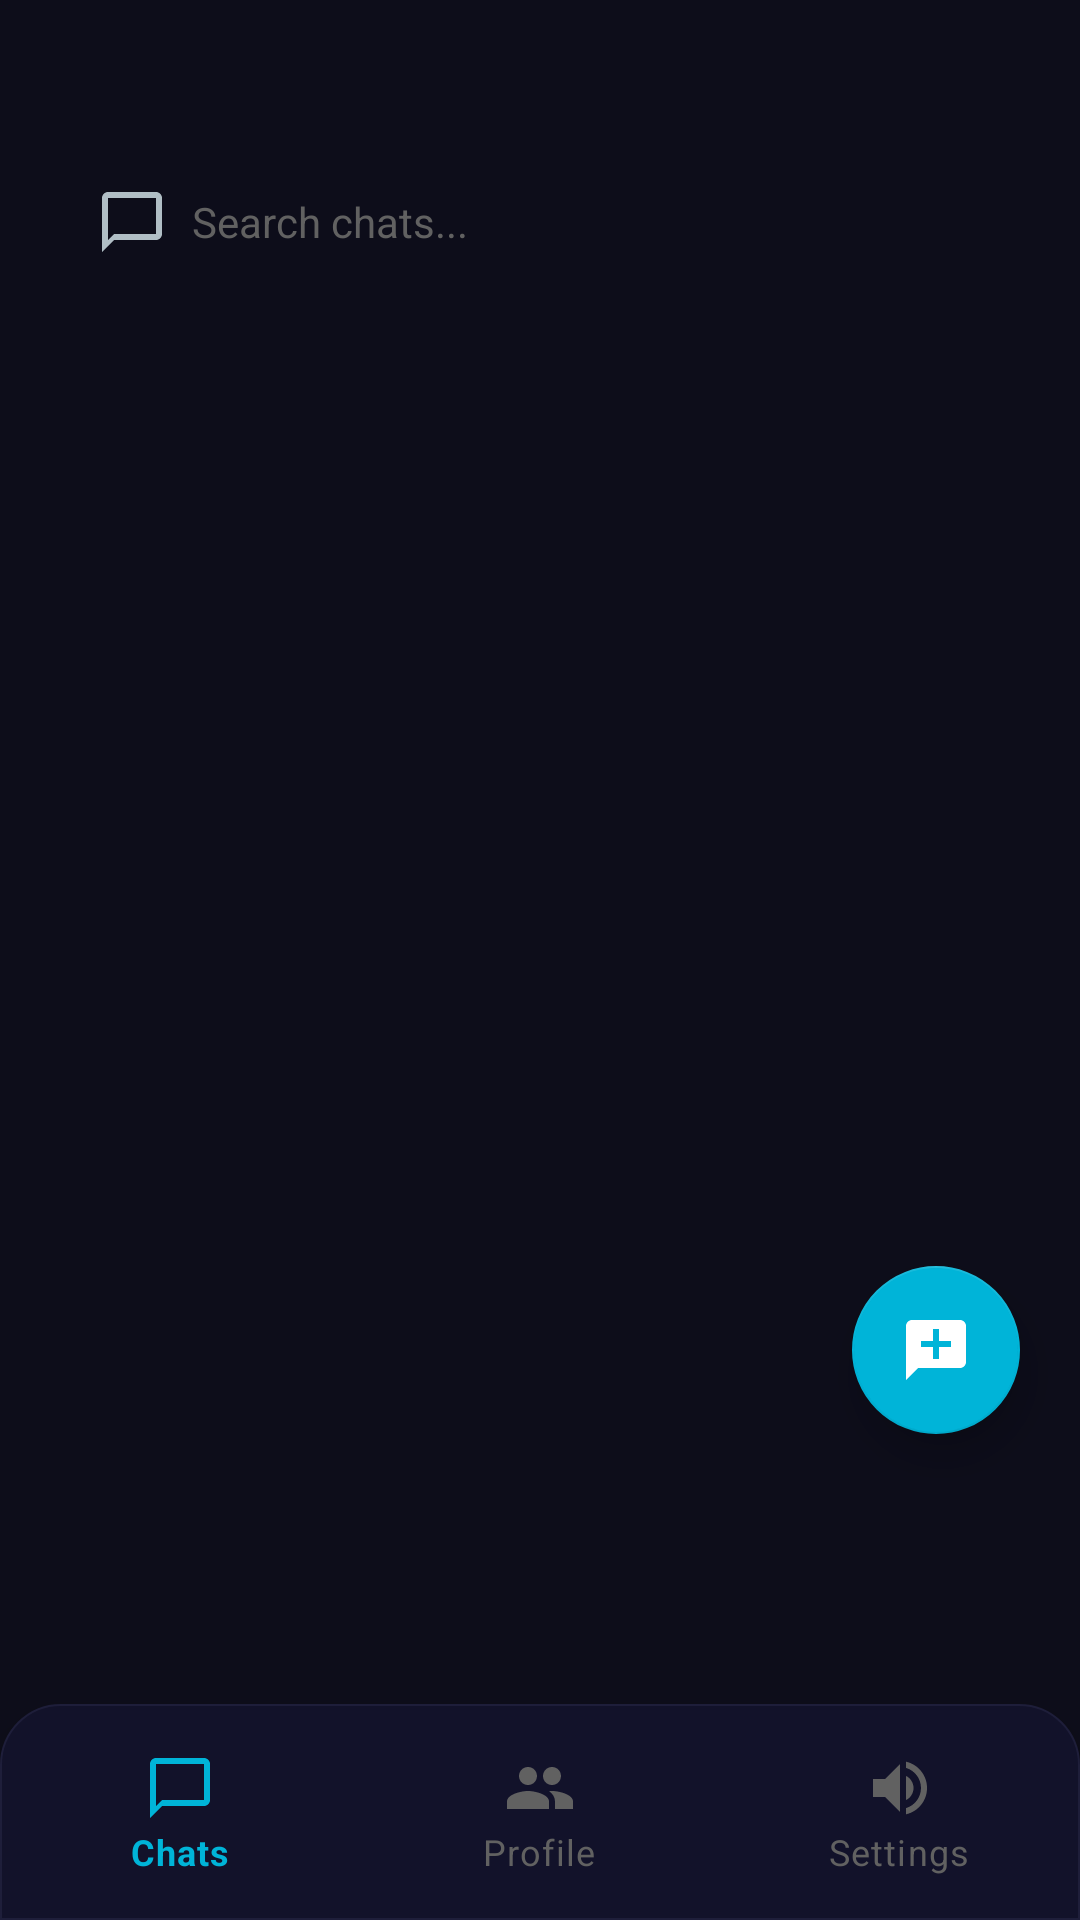

Locate icon controls on the screen. Image size 1080px x 1920px, boxes as (x1, y1, x2, y2).
New: (852, 1266, 1020, 1434)
